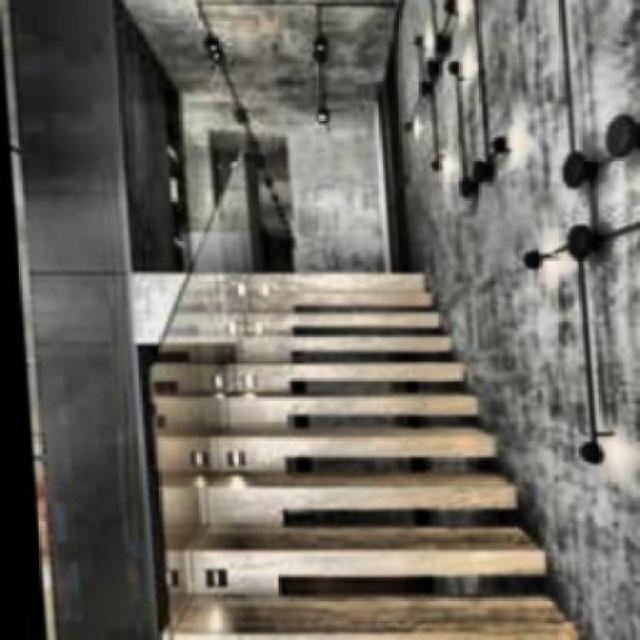stair: (105, 247, 552, 638)
